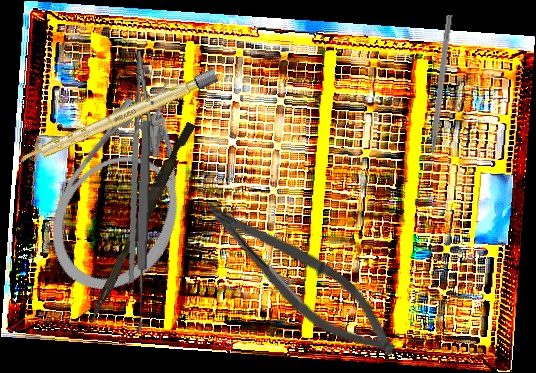Cannula: (26, 59, 238, 313)
Chopper: (418, 13, 453, 174)
Micro Scissor: (184, 186, 414, 372)
Needle Holder: (108, 49, 180, 283)
Pusher: (87, 119, 196, 328)
Scalpel Handle: (14, 68, 219, 170)
Surgical Spoon: (132, 120, 153, 333)
